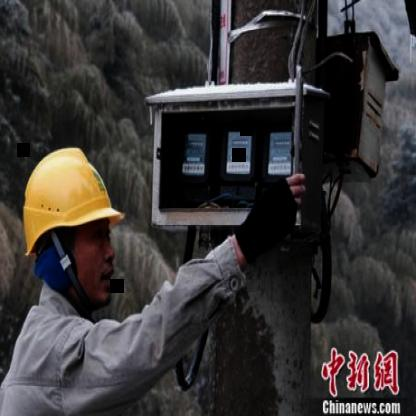helmet: (13, 133, 129, 320)
